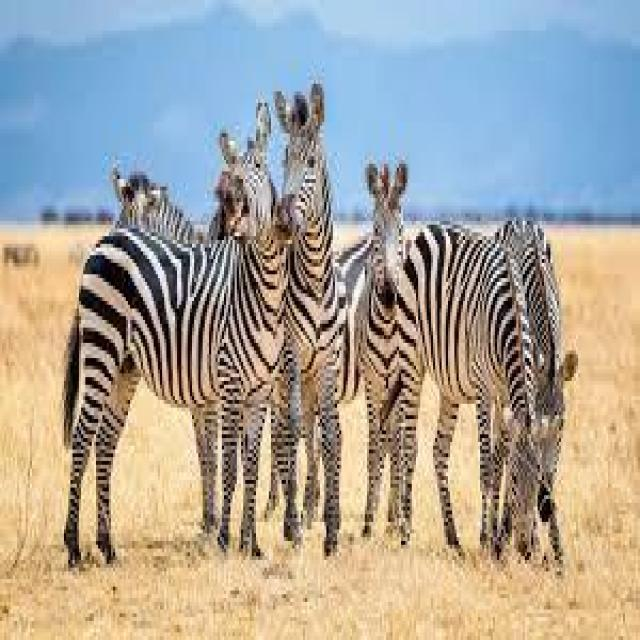Zebra: (66, 124, 295, 558), (410, 204, 544, 585), (268, 65, 383, 495), (353, 143, 438, 478), (496, 230, 583, 467)
